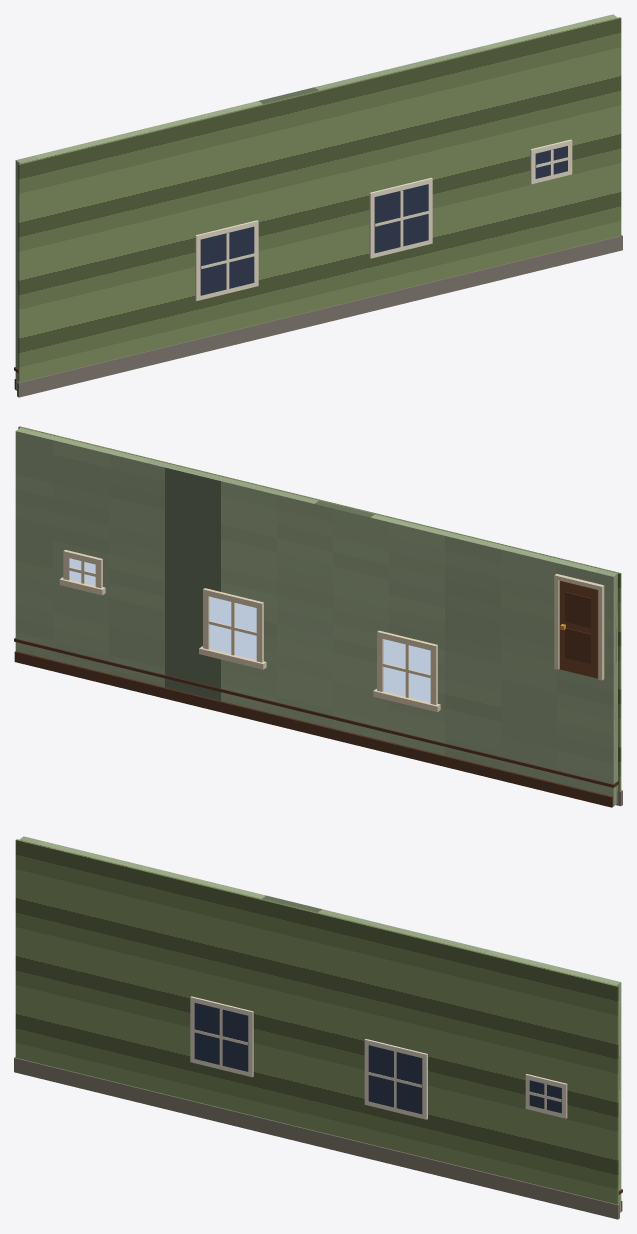
File: back.glb
The picture shows the model from 3 angles, top to bottom: view 1: azimuth 30°, elevation 25°; view 2: azimuth 150°, elevation 25°; view 3: azimuth 330°, elevation 25°; orthographic projection.
Visible parts, largest first — view 1: Box3, Box4, Box1, Box17, Box6, Box5, Box16, Box27, Box28; view 2: Box1, Box2, Box42, Box43, Box24, Box13, slab, Box3, slab_panel, slab_panel2, Box39, Box40 (+2 smaller); view 3: Box3, Box4, Box1, Box6, Box17, Box16, Box5, Box27, Box28.
Part boxes in pixels (x1=…): Box3: x1=18, y1=17, x2=621, y2=382; Box4: x1=17, y1=235, x2=622, y2=397; Box1: x1=15, y1=14, x2=617, y2=390; Box17: x1=200, y1=226, x2=254, y2=295; Box6: x1=374, y1=184, x2=428, y2=253; Box5: x1=369, y1=177, x2=432, y2=258; Box16: x1=195, y1=220, x2=258, y2=300; Box27: x1=530, y1=139, x2=572, y2=184; Box28: x1=535, y1=146, x2=567, y2=178; Box1: x1=15, y1=427, x2=617, y2=806; Box2: x1=14, y1=651, x2=612, y2=807; Box42: x1=16, y1=644, x2=617, y2=805; Box43: x1=14, y1=638, x2=618, y2=787; Box24: x1=383, y1=639, x2=430, y2=702; Box13: x1=209, y1=596, x2=256, y2=660; slab: x1=559, y1=580, x2=598, y2=678; Box3: x1=18, y1=426, x2=621, y2=791; slab_panel: x1=565, y1=628, x2=591, y2=663; slab_panel2: x1=565, y1=592, x2=591, y2=627; Box39: x1=598, y1=584, x2=604, y2=680; Box40: x1=554, y1=573, x2=559, y2=669; Box3: x1=15, y1=839, x2=618, y2=1204; Box4: x1=14, y1=1057, x2=619, y2=1219; Box1: x1=19, y1=836, x2=621, y2=1212; Box6: x1=368, y1=1045, x2=422, y2=1114; Box17: x1=194, y1=1003, x2=248, y2=1071; Box16: x1=190, y1=996, x2=253, y2=1077; Box5: x1=364, y1=1039, x2=427, y2=1119; Box27: x1=525, y1=1074, x2=567, y2=1118; Box28: x1=529, y1=1080, x2=561, y2=1113.
Bounding box in the file's own units: 11.27 × 4.14 × 0.373.
11 materials, 2 textured.
